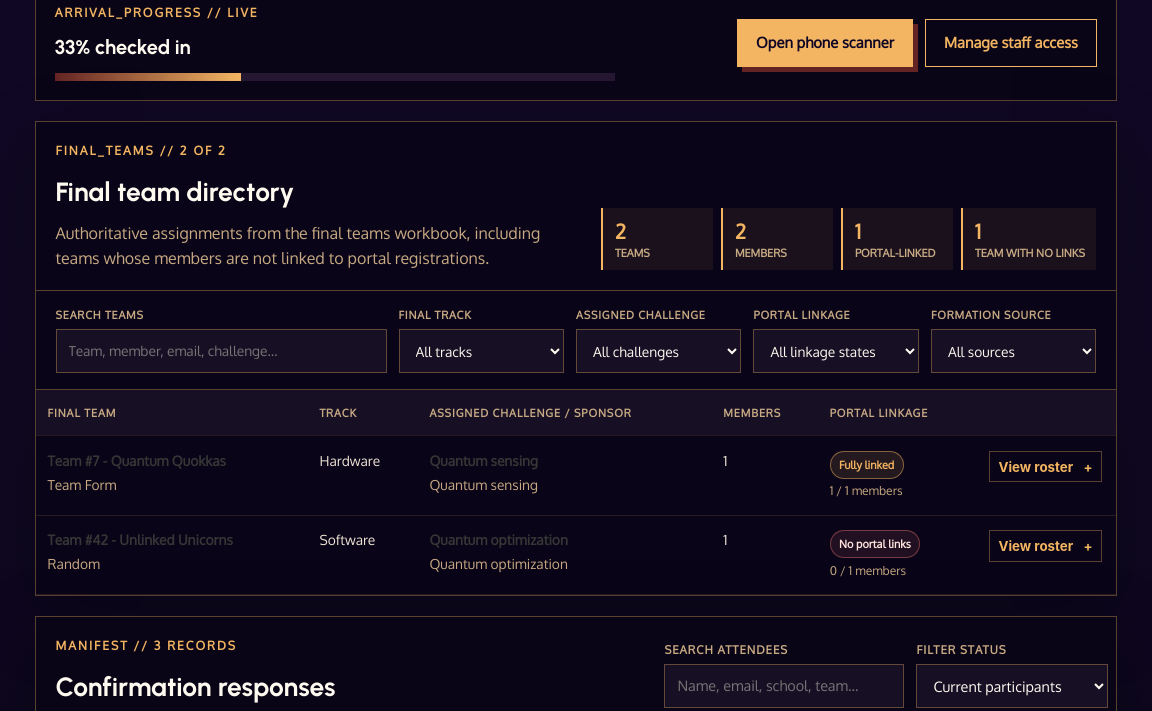
DuQuantumAdminPage › shows every final team including teams with no linked portal account
(page scrolled)
Expected: the heading "Final team directory" is shown, [56,176,294,208]
Expected: the text "Team #7 - Quantum Quokkas" is shown, [48,452,226,469]
Select "No portal links" in the dropdown labelled "Portal linkage". click: {"x": 836, "y": 351}
box: [754,329,919,373]
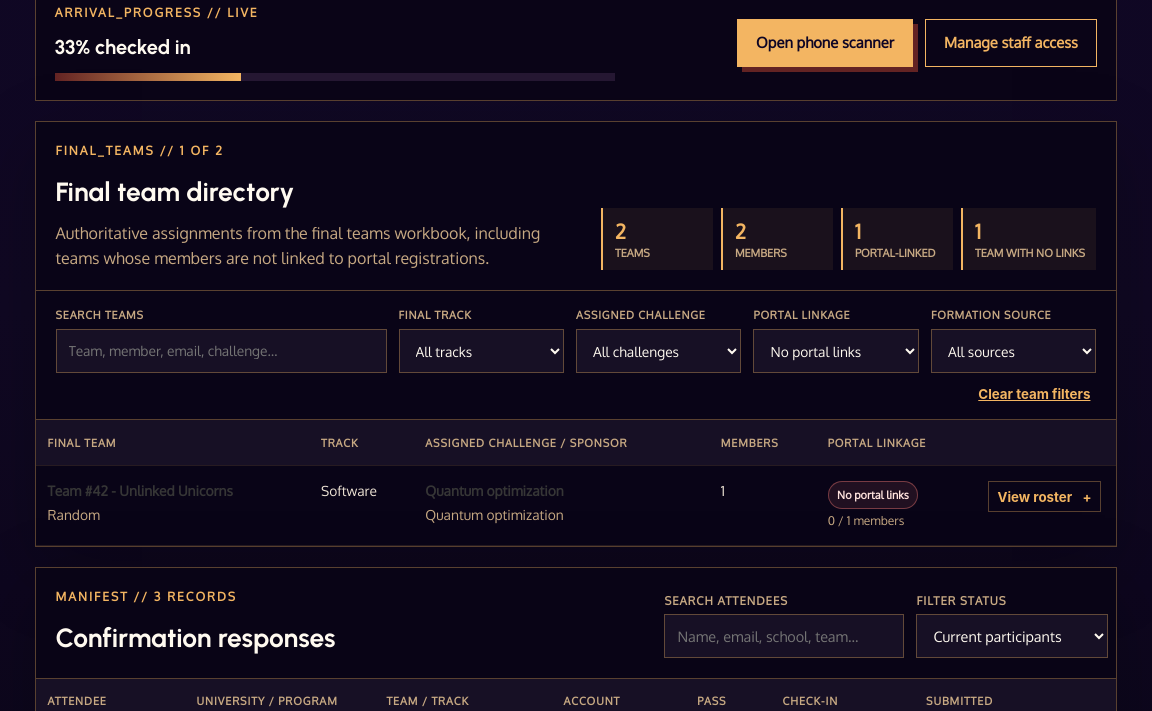
Expected: the text "Team #42 - Unlinked Unicorns" is shown, [48,482,233,499]
Expected: the text "Team #7 - Quantum Quokkas" is not shown
Click the button "Clear team filters". click: {"x": 1034, "y": 394}
box: [972,385,1096,403]
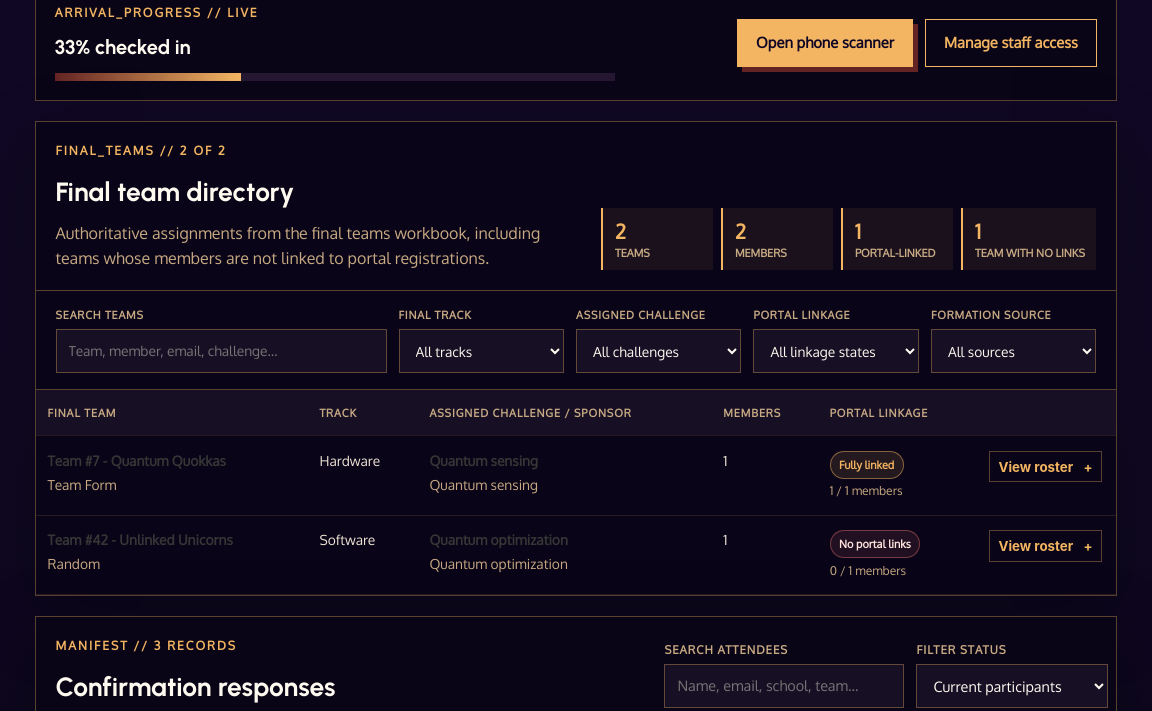
Select "Random" in the dropdown labelled "Formation source". click: {"x": 1014, "y": 351}
box: [931,329,1096,373]
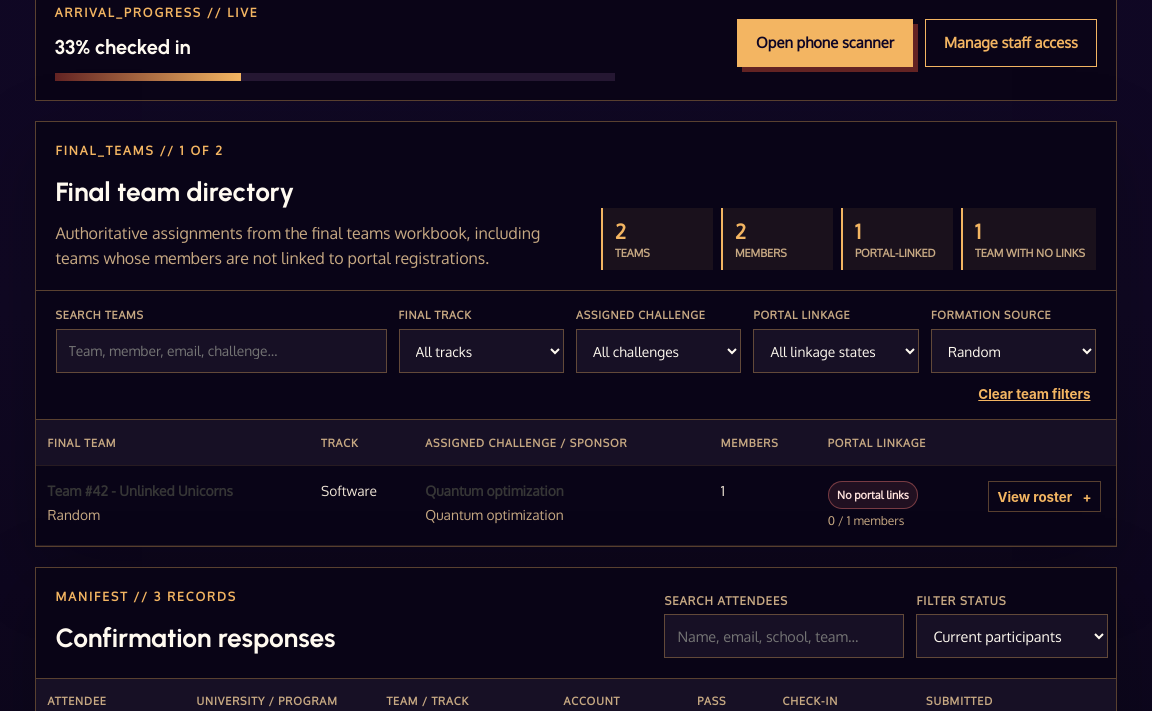
Expected: the text "Team #42 - Unlinked Unicorns" is shown, [48,482,233,499]
Expected: the text "Team #7 - Quantum Quokkas" is not shown
Click the button "Clear team filters". click: {"x": 1034, "y": 394}
box: [972,385,1096,403]
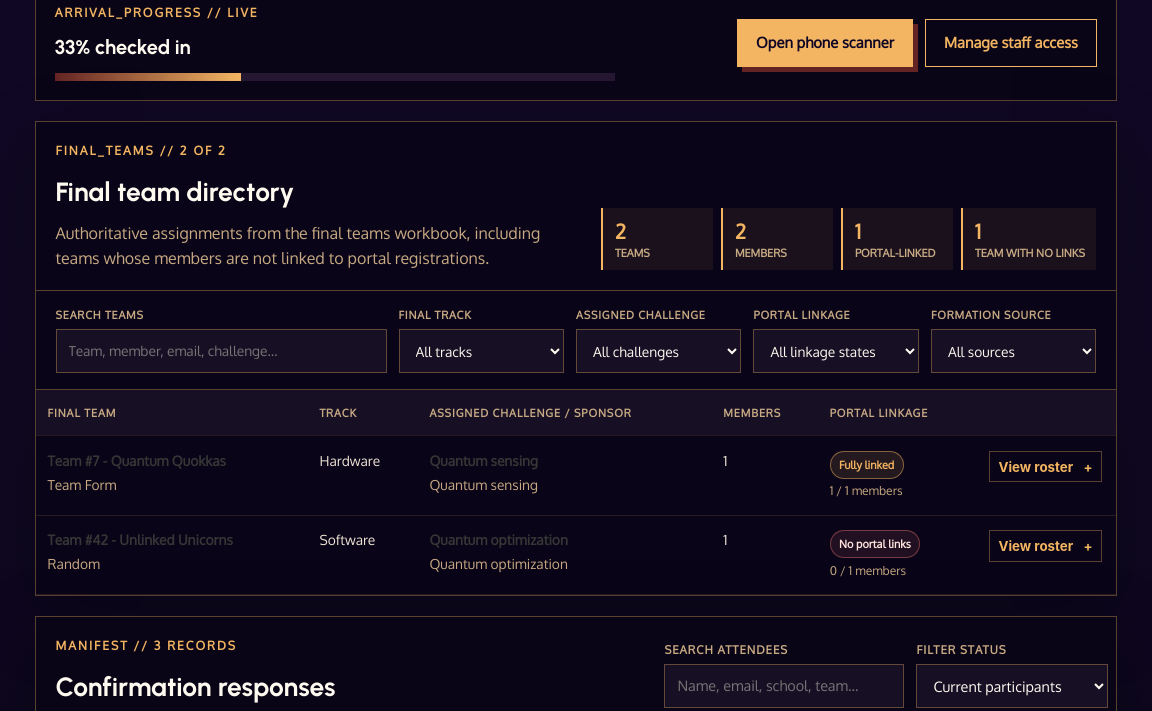
Type "unlinked@example.org" into the search field labelled "Search teams". click: {"x": 221, "y": 351}
box: [56,329,386,373]
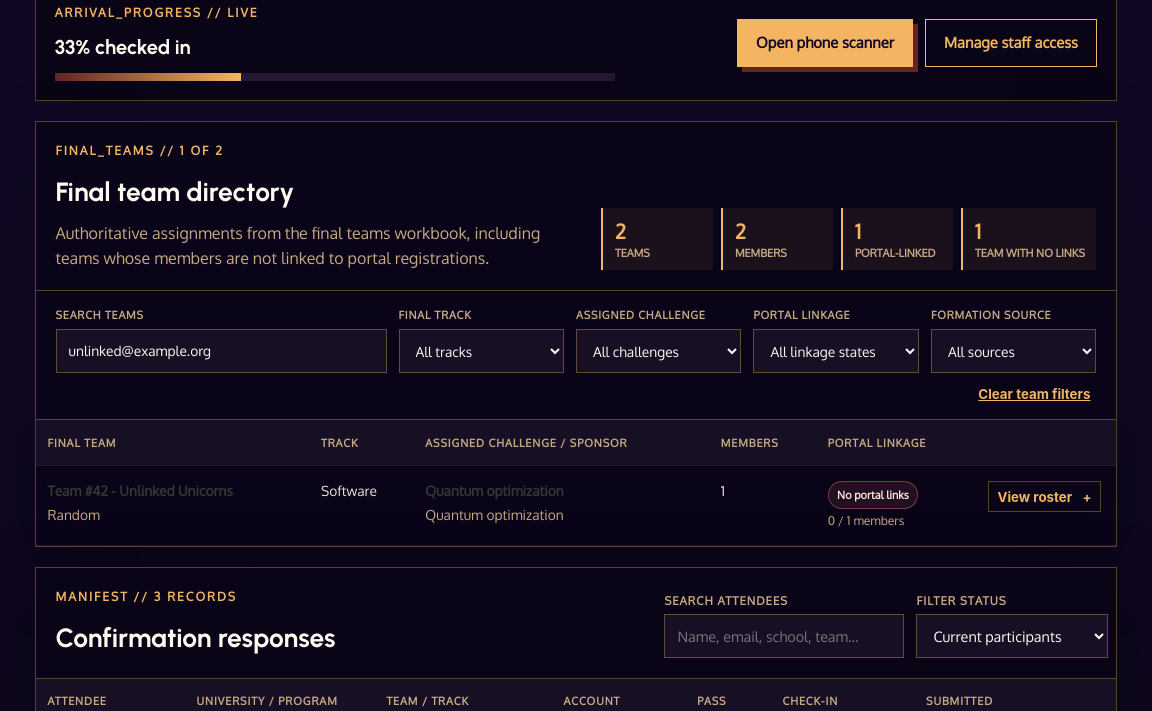
Click the button "View roster +". click: {"x": 1045, "y": 497}
box: [988,481,1101,512]
(page scrolled)
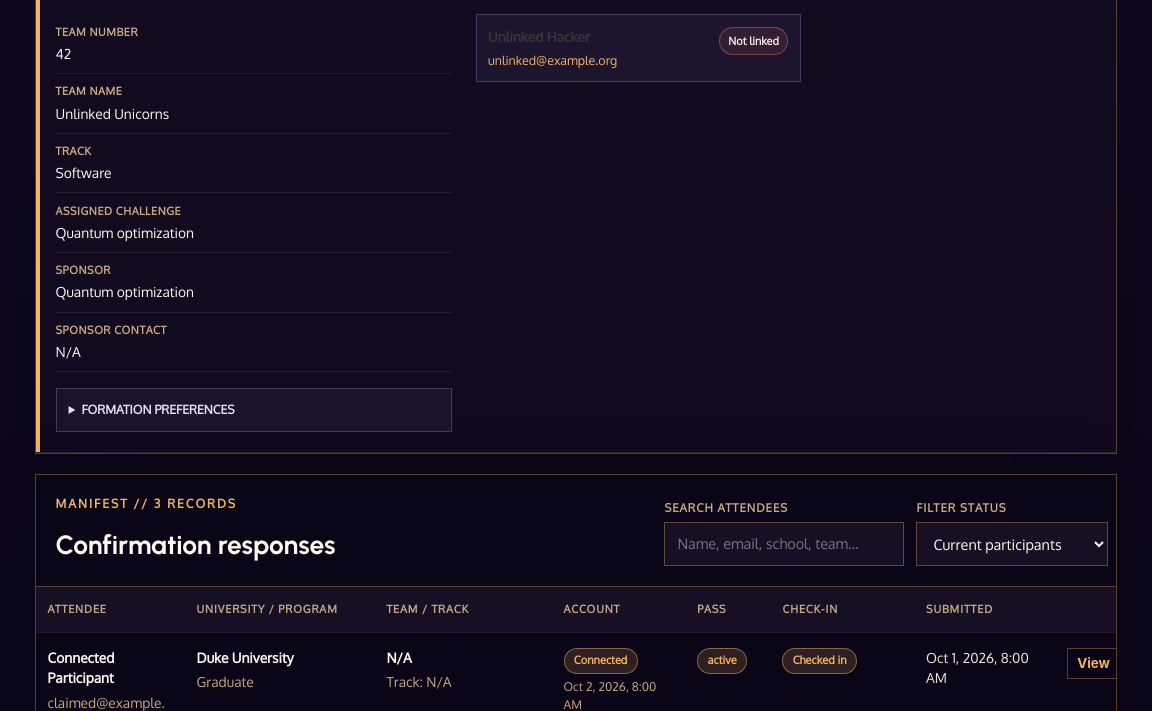
Now the text "Unlinked Hacker" is shown, box [488,28,590,45]
Now the text "Not linked" is shown, box [719,27,788,55]
Now the text "N/A" below "Sponsor contact" is shown, box [56,343,81,360]
